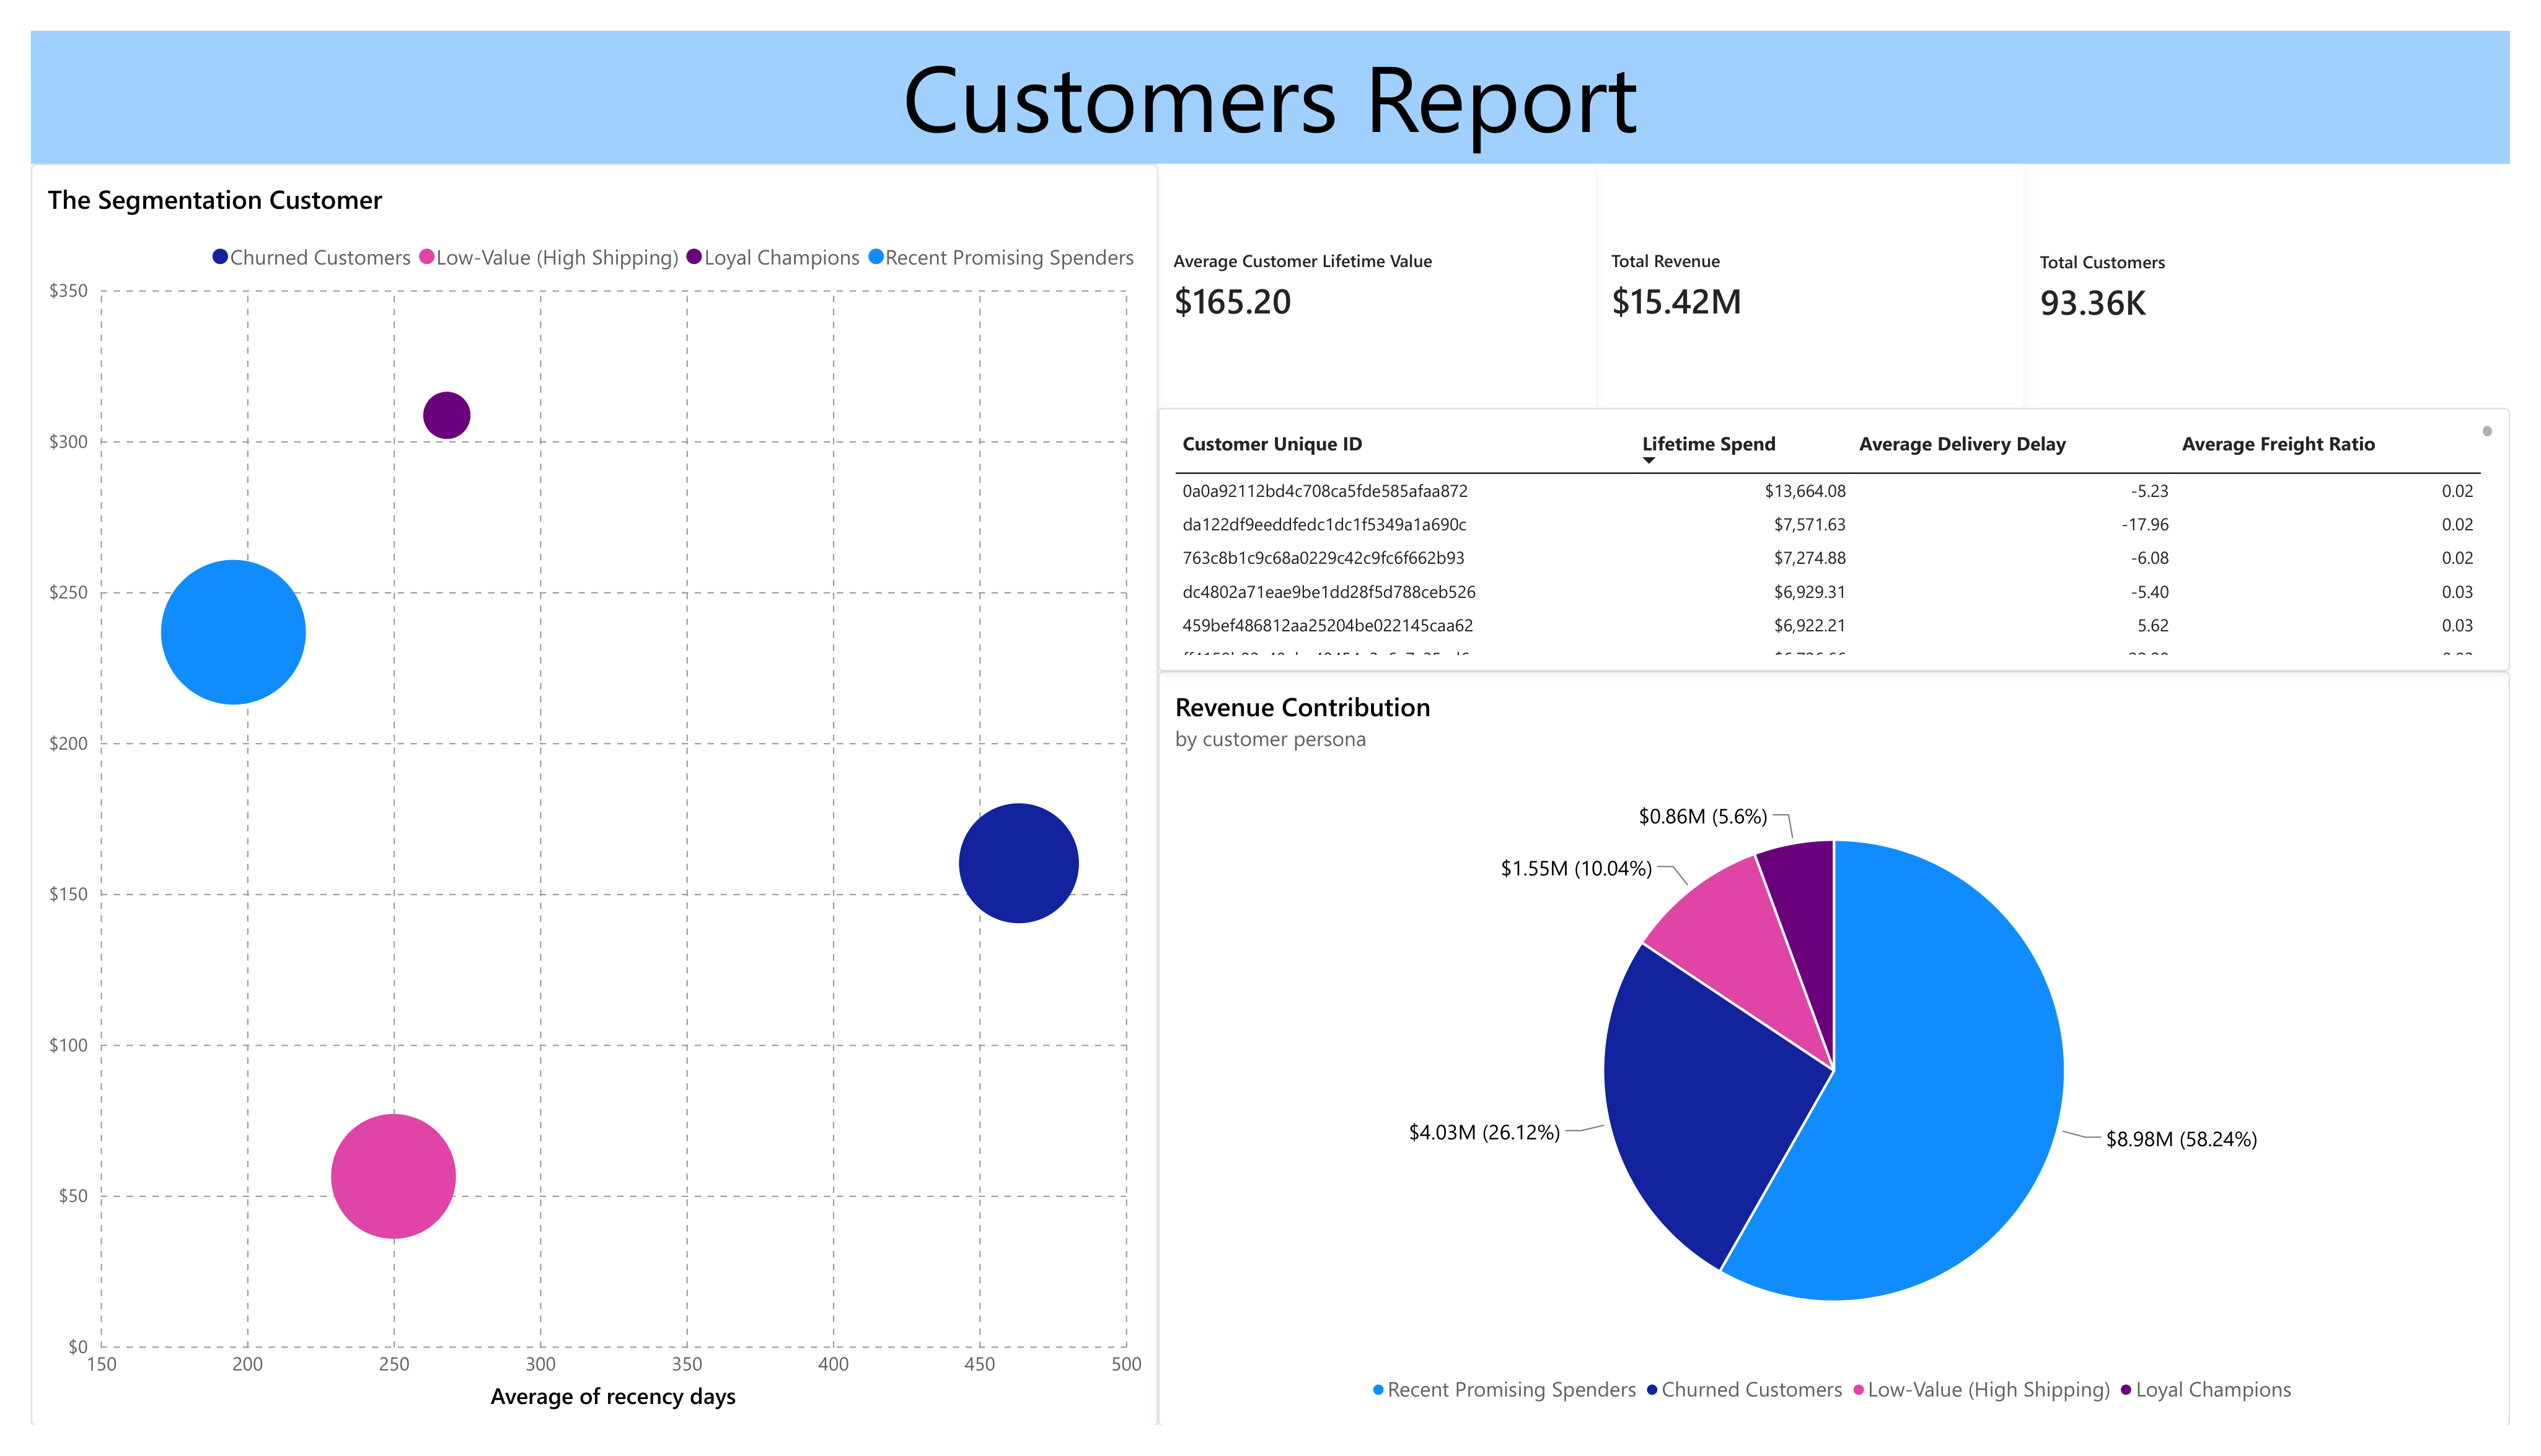

This screenshot's page, from the dashboard's own definition file:
{"tool":"powerbi","page":{"name":"Page 1","canvas":[1920,1080],"ordinal":0},"visuals":[{"type":"textbox","box":[0,0,1920.4,102.9],"z":0},{"type":"cardVisual","fields":{"Data":["Customer Segments.total_customers"]},"box":[1544.4,103.7,375.9,188.9],"z":1000},{"type":"cardVisual","fields":{"Data":["Customer Segments.total_revenue"]},"box":[1212.4,102.9,331.4,189.4],"z":2000},{"type":"cardVisual","fields":{"Data":["Customer Segments.avg_clv"]},"box":[872.7,102.9,339.6,189.4],"z":3000},{"type":"scatterChart","title":"The Segmentation Customer","fields":{"Series":["Customer Segments.customer_persona"],"Size":["CountNonNull(Customer Segments.customer_unique_id)"],"X":["Avg(Customer Segments.recency_days)"],"Y":["Avg(Customer Segments.lifetime_spend)"]},"box":[0,102.9,872.7,977.7],"z":4000},{"type":"pieChart","title":"Revenue Contribution","fields":{"Category":["Customer Segments.customer_persona"],"Y":["Customer Segments.total_revenue"]},"box":[872.7,496.1,1047.7,584.6],"z":5000},{"type":"tableEx","title":"Action List","fields":{"Values":["Customer Segments.customer_unique_id","Sum(Customer Segments.lifetime_spend)","Sum(Customer Segments.avg_delivery_delay)","Sum(Customer Segments.avg_freight_ratio)"]},"box":[872.7,292.3,1047.7,203.8],"z":6000}]}

Visuals, with their boxes on the page's 1920x1080 design canvas (x1, y1, x2, y2). These are canvas units, not pixel positions in the 2541x1456 screenshot, which may show the page scaled, cropped or inside an application window:
textbox: box=[0, 0, 1920, 103]
cardVisual - Customer Segments.total_customers: box=[1544, 104, 1920, 293]
cardVisual - Customer Segments.total_revenue: box=[1212, 103, 1544, 292]
cardVisual - Customer Segments.avg_clv: box=[873, 103, 1212, 292]
"The Segmentation Customer" scatterChart: box=[0, 103, 873, 1081]
"Revenue Contribution" pieChart: box=[873, 496, 1920, 1081]
"Action List" tableEx: box=[873, 292, 1920, 496]
